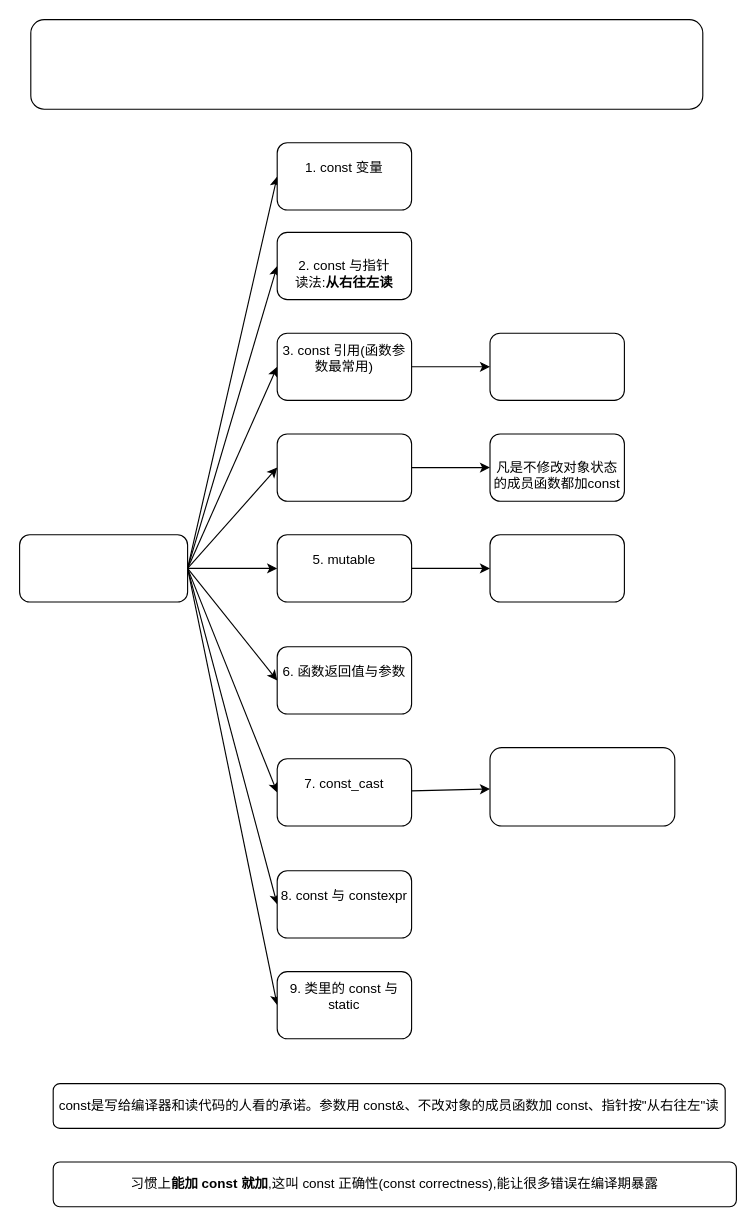
Some shapes in this 756 by 1226 pixel diagram are drawn without their labels. Here are the shapes that lost their labels. From the top down, the box of each, then its label:
(30, 18, 703, 109): const表示"这个东西不应该被修改",由编译器在编译期检查
(489, 332, 624, 400): 避免大对象拷贝,又保证函数不改参数
(276, 433, 412, 501): 4. const 成员函数
(18, 534, 188, 602): CONST in C++
(489, 534, 624, 602): 在 const 成员函数里也允许修改的成员,常用于缓存、互斥锁
(489, 746, 675, 826): 只有在 对象本来不是 const 、只是被 const 指针或引用指向时,const_cast去掉 const 再修改才是安全的。尽量不用
